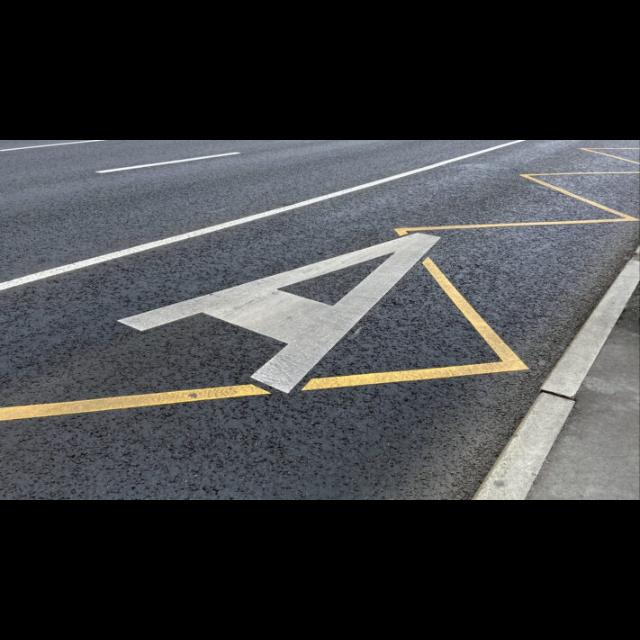road: (0, 140, 639, 497)
